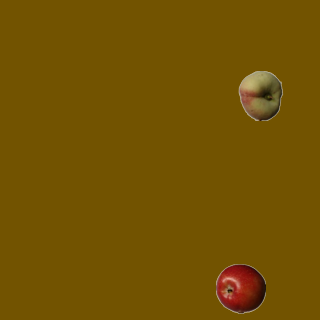Apple Braeburn: (215, 263, 265, 313)
Peach Flat: (235, 70, 285, 120)
